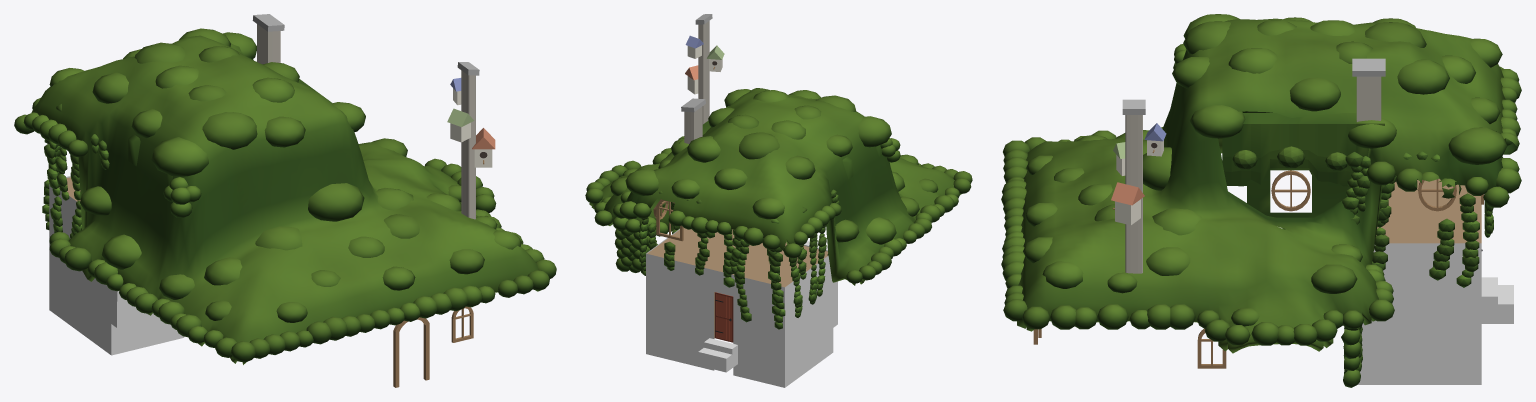
Rendered from cottage_exterior.glb.
3 renders of one model, left to right at view 1: azimuth 30°, elevation 25°; view 2: azimuth 150°, elevation 25°; view 3: azimuth 270°, elevation 25°, orthographic. The views are drawn at different scales.
Visible parts, largest first — view 1: X2_Mound, X2_Blobs, X2_Storeroom, X2_Ivy, X2_Chimney.001, X2_DoorArch, X2_Chimney2, X2_BirdhouseA, X2_BirdhouseB, X2_WinFrameFront; view 2: X2_Mound, X2_Blobs, X2_Storeroom, X2_Ivy, X2_StoreStep, X2_Chimney.001, X2_StoreDoor, X2_Chimney2, X2_WinFrameLoftBack, X2_BirdhouseB; view 3: X2_Mound, X2_Blobs, X2_Storeroom, X2_Ivy, X2_Chimney.001, X2_StoreStep, X2_Chimney2, X2_BirdhouseA, X2_WinFrameLoftR1, X2_ChimneyCap2, X2_BirdhouseC, X2_WinFrameRight (+1 smaller).
Boxes of the visible parts, x1,y1,x2,y2 form: X2_Mound: (31, 35, 545, 364); X2_Blobs: (14, 28, 556, 362); X2_Storeroom: (49, 176, 184, 355); X2_Ivy: (42, 104, 109, 238); X2_Chimney.001: (461, 70, 475, 219); X2_DoorArch: (393, 317, 429, 387); X2_Chimney2: (257, 24, 280, 64); X2_BirdhouseA: (472, 128, 495, 167); X2_BirdhouseB: (447, 108, 474, 142); X2_WinFrameFront: (451, 306, 473, 342); X2_Mound: (589, 88, 961, 285); X2_Blobs: (585, 89, 972, 283); X2_Storeroom: (646, 228, 837, 387); X2_Ivy: (639, 189, 839, 329); X2_StoreStep: (698, 338, 737, 372); X2_Chimney.001: (698, 21, 709, 124); X2_StoreDoor: (715, 292, 733, 342); X2_Chimney2: (684, 106, 702, 143); X2_WinFrameLoftBack: (656, 199, 683, 241); X2_BirdhouseB: (707, 45, 724, 71); X2_Mound: (1017, 18, 1505, 353); X2_Blobs: (1001, 14, 1521, 387); X2_Storeroom: (1357, 178, 1481, 384); X2_Ivy: (1342, 151, 1493, 287); X2_Chimney.001: (1125, 115, 1142, 273); X2_StoreStep: (1481, 277, 1513, 323); X2_Chimney2: (1356, 76, 1381, 121); X2_BirdhouseA: (1111, 182, 1144, 225); X2_WinFrameLoftR1: (1271, 170, 1310, 211); X2_ChimneyCap2: (1352, 58, 1385, 76); X2_BirdhouseC: (1144, 123, 1166, 156); X2_WinFrameRight: (1197, 328, 1226, 368).
Size of the model in its own units: 13.02 by 9.42 by 13.58.
